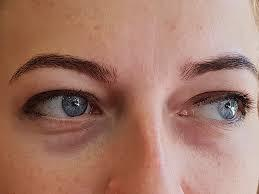Eyebags: (23, 118, 106, 153), (176, 121, 246, 154)
